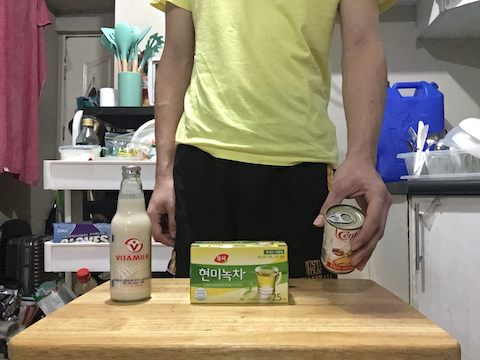bottle: (106, 162, 158, 305)
box: (187, 240, 292, 306)
can: (319, 203, 368, 276)
grab: (312, 172, 395, 273)
